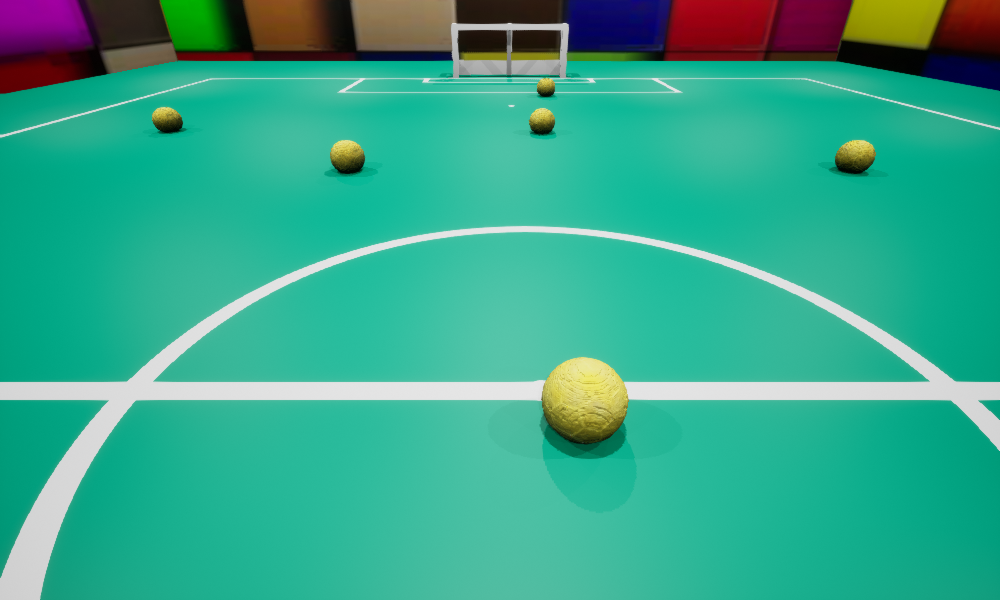b: (541, 357, 628, 443), (835, 140, 875, 172), (330, 140, 364, 172), (152, 107, 182, 131), (529, 108, 554, 133), (537, 78, 554, 95)
g: (451, 23, 568, 77)
